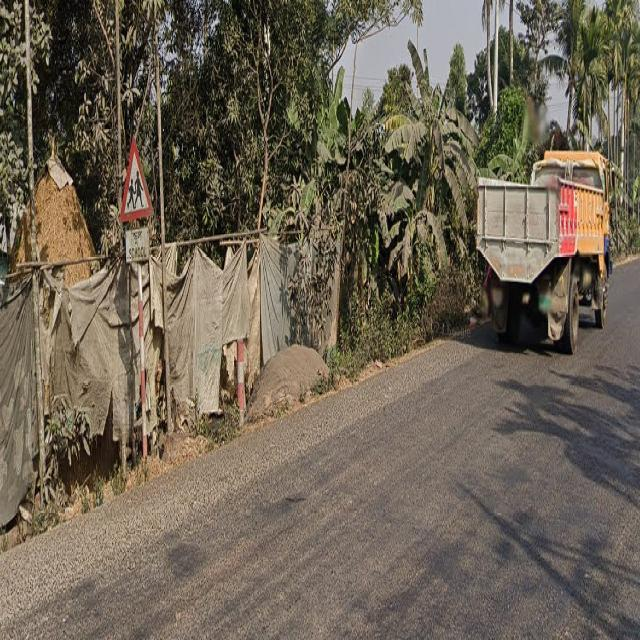School-in-front: (118, 138, 154, 280)
